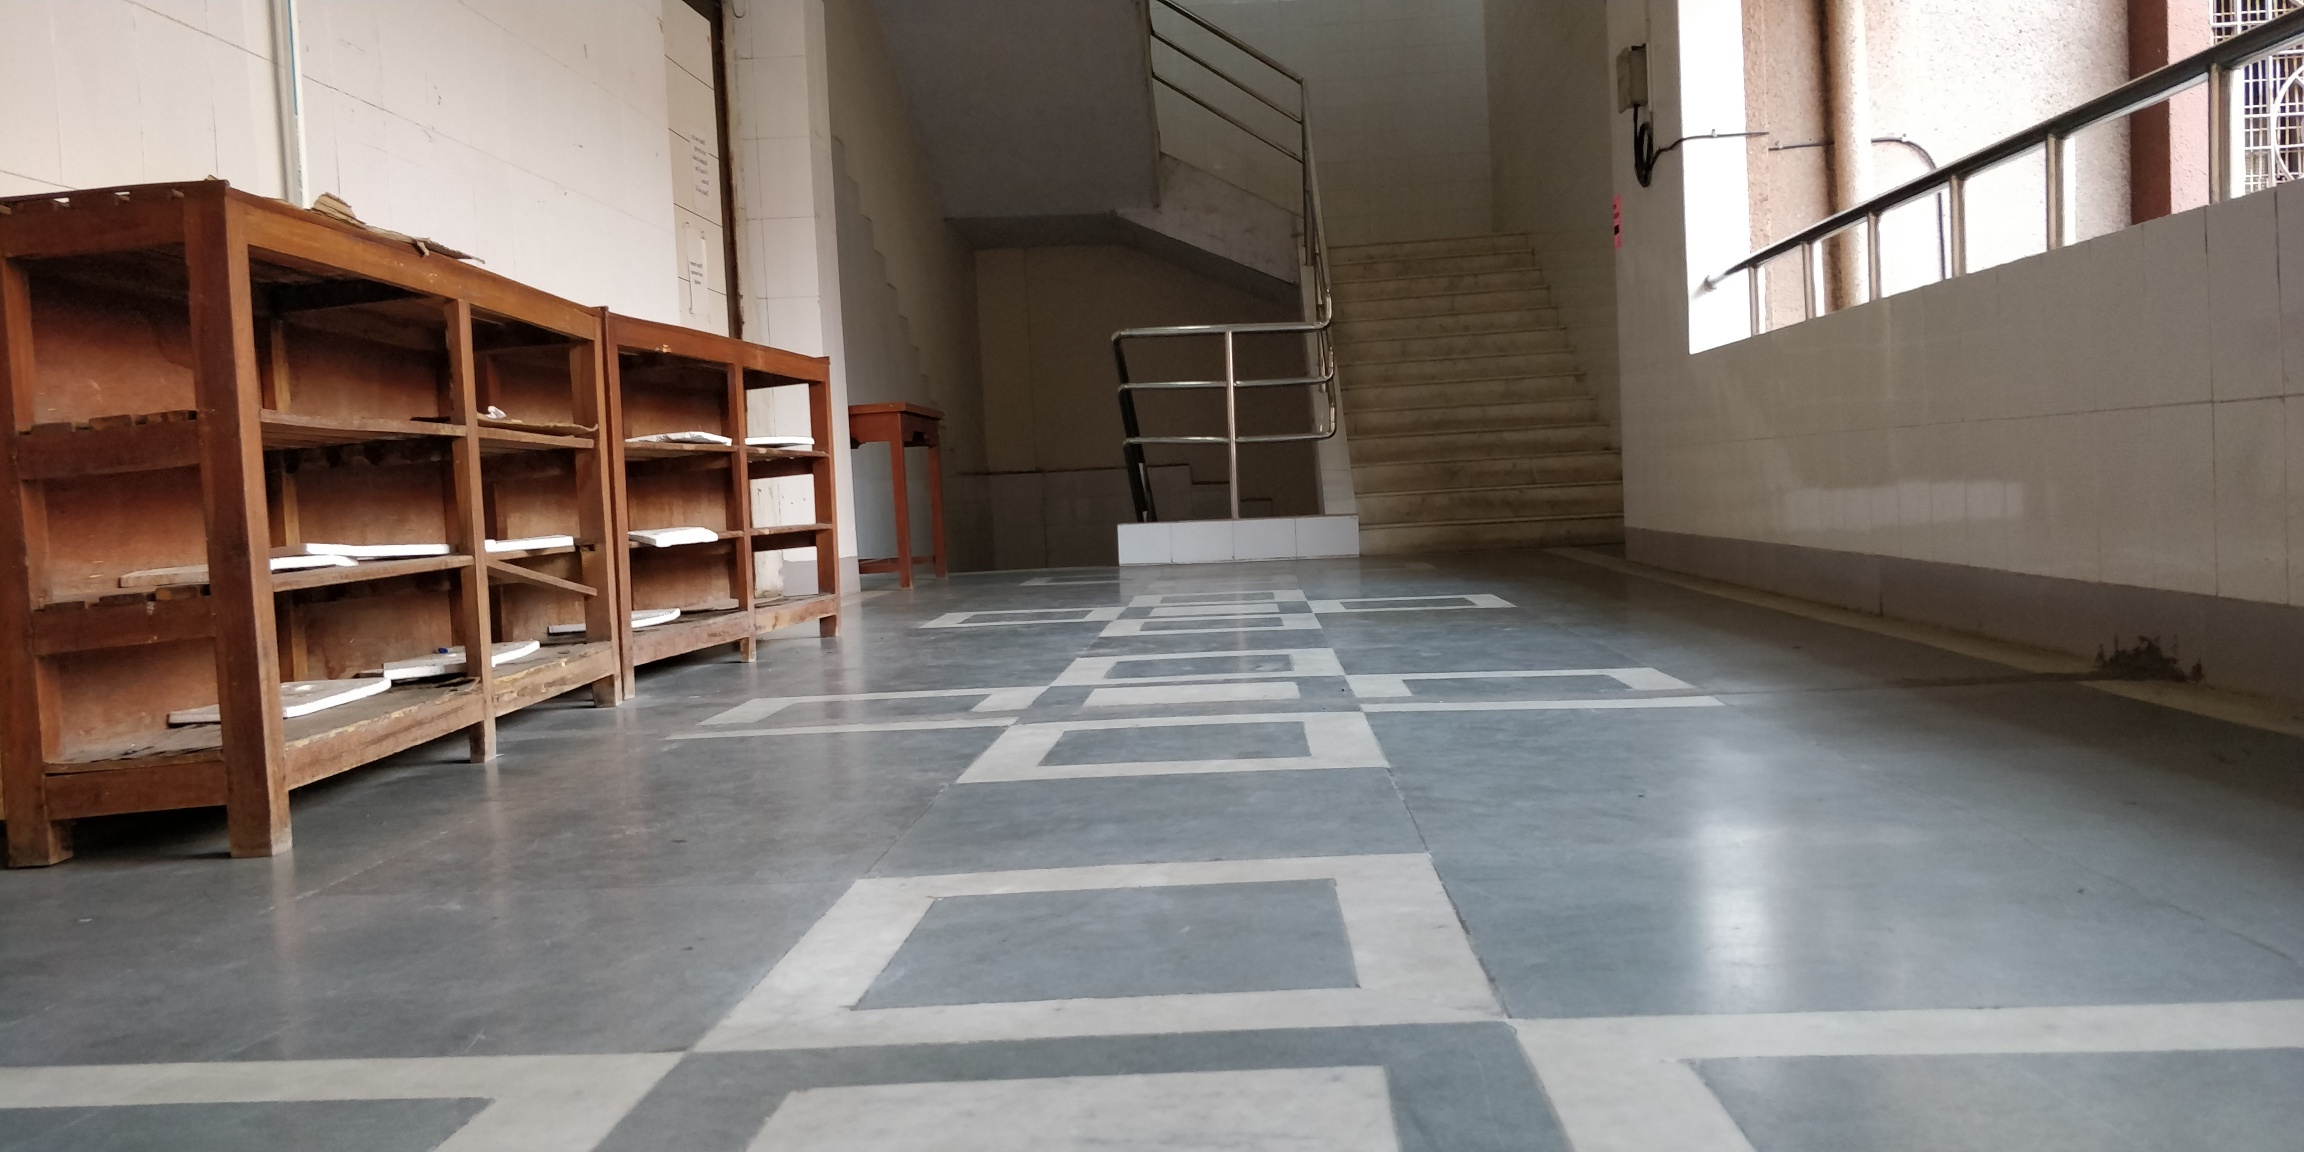stairs_up: (1322, 240, 1635, 575)
